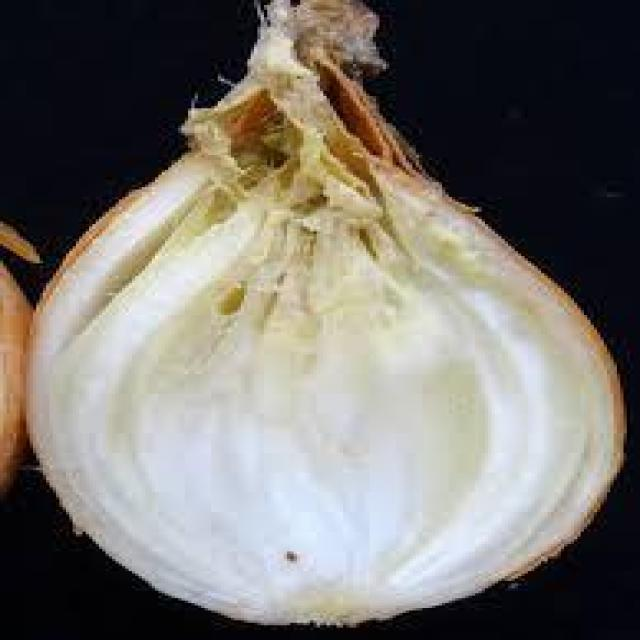Onion: (23, 3, 627, 630)
